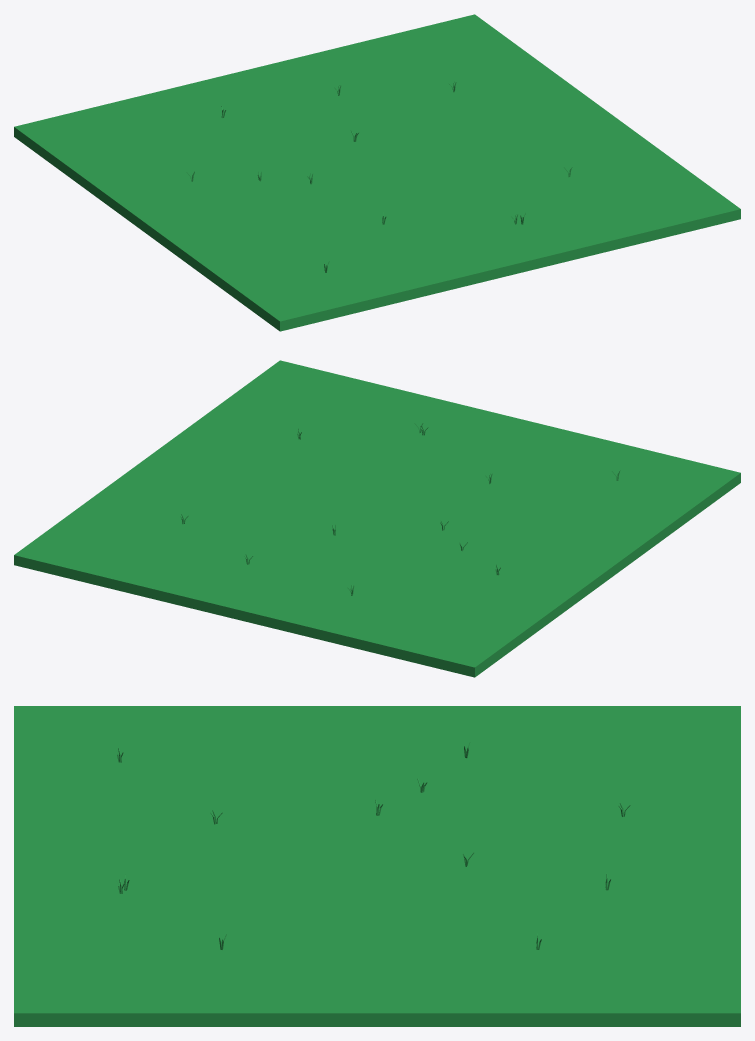
File: Grass.fbx
3 views of the same model, one above another, from view 1: azimuth 30°, elevation 25°; view 2: azimuth 150°, elevation 25°; view 3: azimuth 270°, elevation 25° (orthographic). The views are drawn at different scales.
Visible parts, largest first — view 1: Grass; view 2: Grass; view 3: Grass.
Boxes of the visible parts, bbox=[...] form: Grass: bbox=[14, 14, 740, 331]; Grass: bbox=[14, 360, 740, 677]; Grass: bbox=[14, 706, 740, 1026].
Bounding box in the file's own units: 500 × 20.32 × 500.
